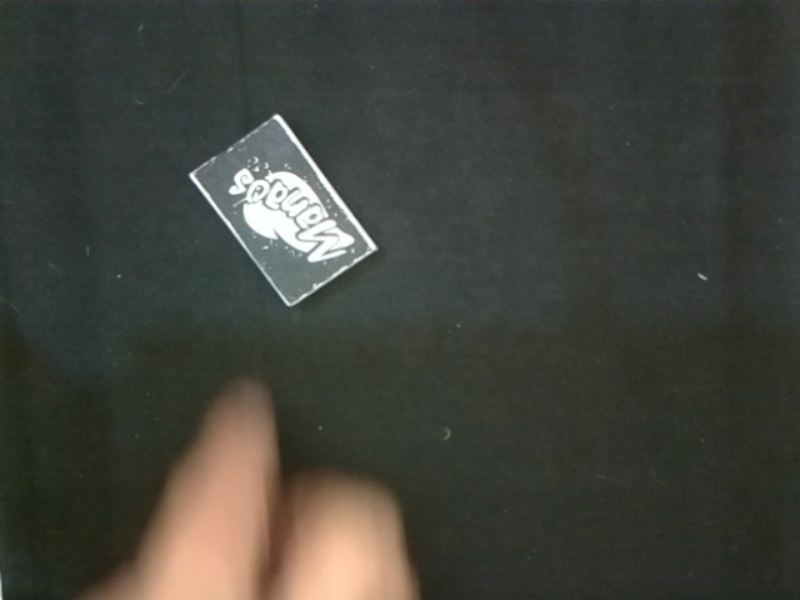manaos: (189, 111, 374, 306)
